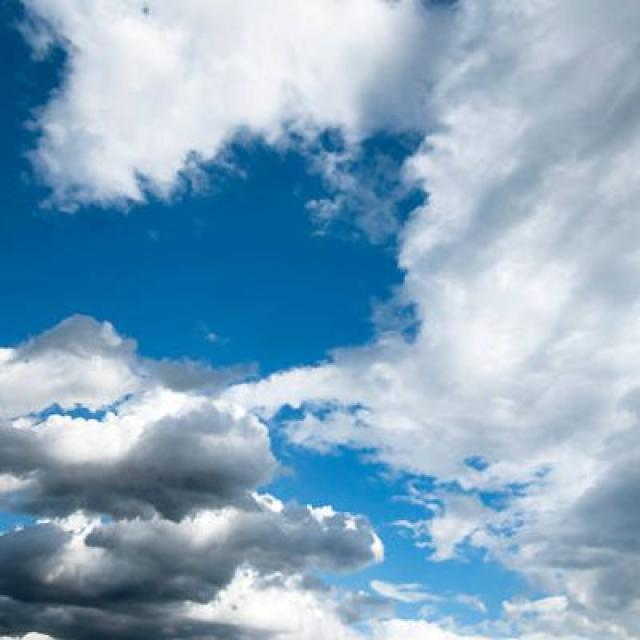As: (1, 311, 389, 640)
